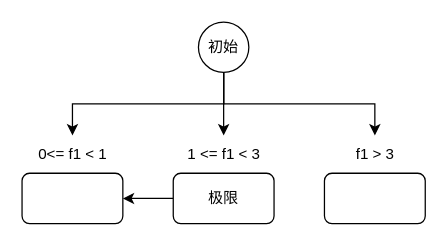
Image size: 447x246. Some labels were removed from this diagram. Here are the shapes that lost their labels. From the top down, the centre of each, then its label:
At (72,198): "增强".
At (374,198): "抑制".
